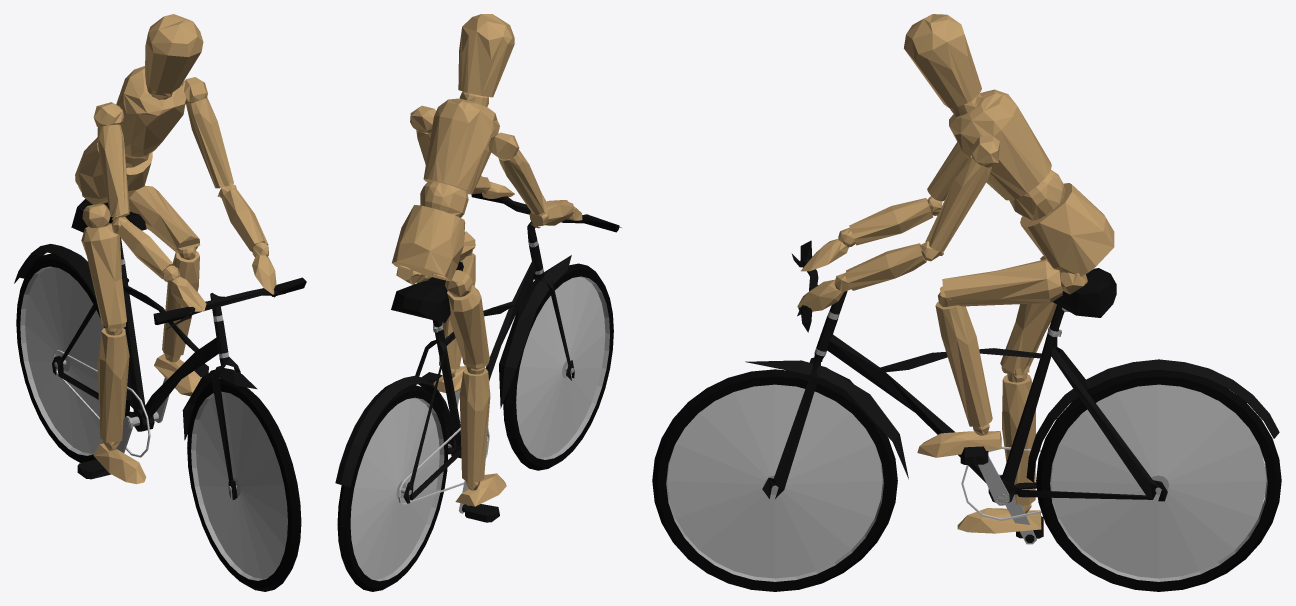
Rendered from Homme_velo.gltf.
3 renders of one model, left to right at view 1: azimuth 30°, elevation 25°; view 2: azimuth 150°, elevation 25°; view 3: azimuth 270°, elevation 25°, orthographic. The views are drawn at different scales.
Size of the model in its own units: 0.0459 by 0.1505 by 0.1492.
